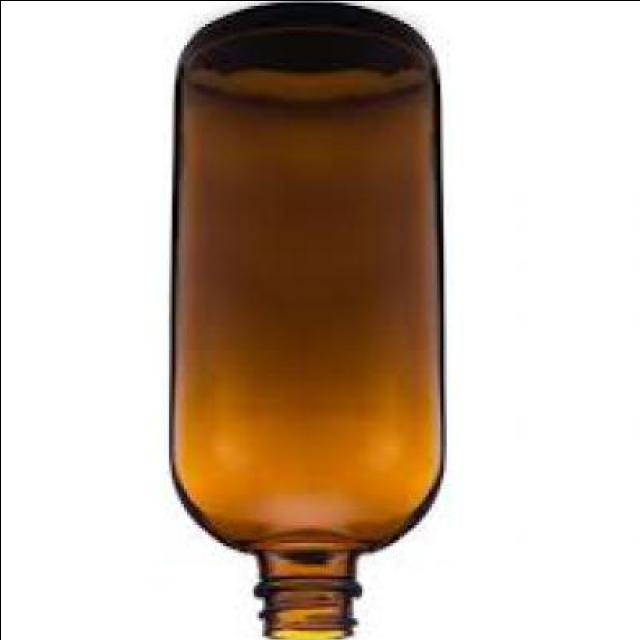kaca: (172, 5, 448, 640)
